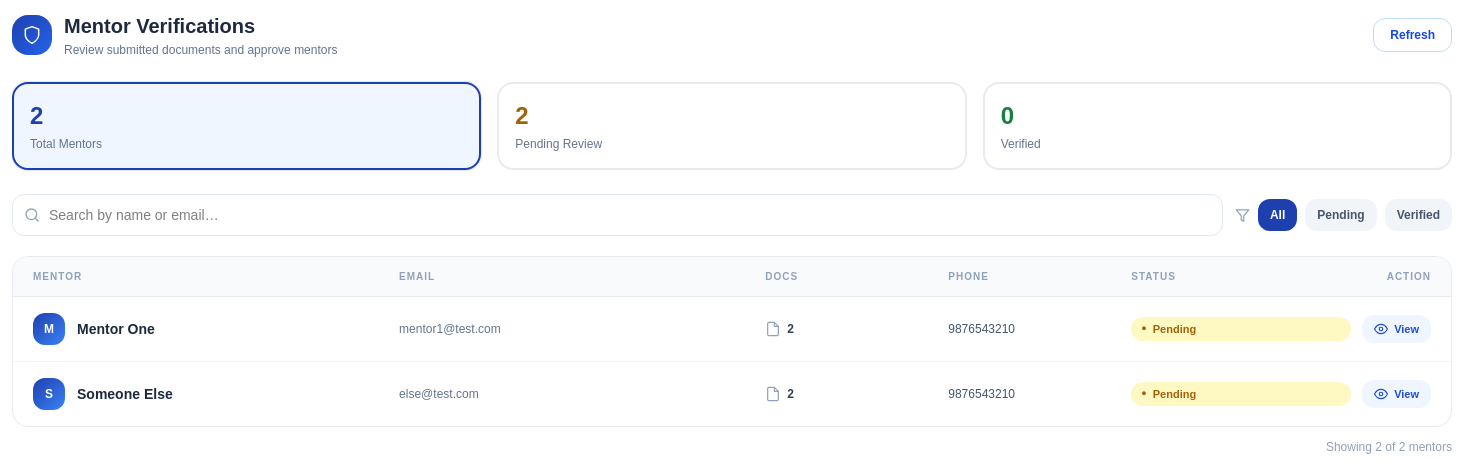
Scenario: AdminVerifications › filters the list via search (name or email)
This screenshot has width=1464, height=471.
Expected: the text "Mentor One" is shown, top-left (77, 319), bottom-right (155, 339)
Fully covers focus and blur styling states on the component input element
Focus the field with placeholder "Search by name or email…" at coordinates (618, 215), box top-left (12, 194), bottom-right (1223, 236)
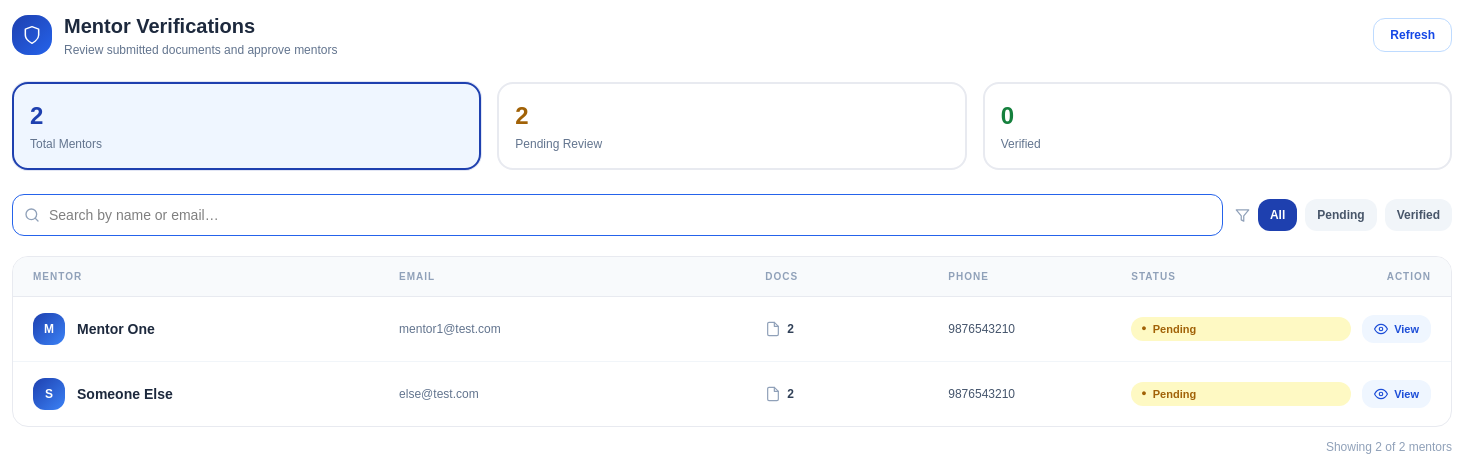
Leave the field with placeholder "Search by name or email…", box top-left (12, 194), bottom-right (1223, 236)
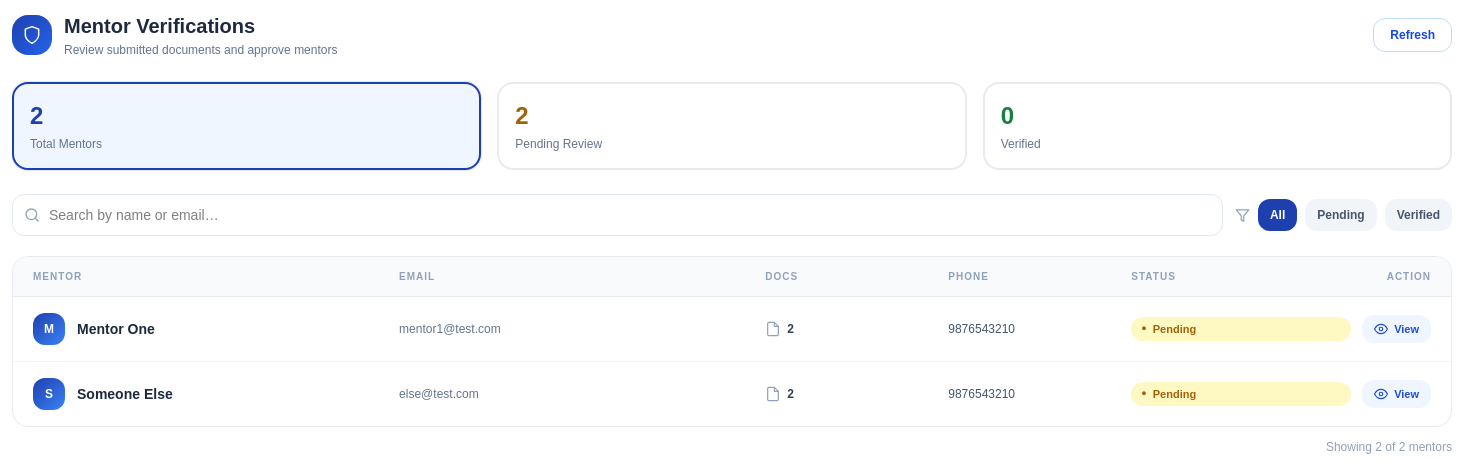
Type "mentor1@test.com" into the field with placeholder "Search by name or email…" at coordinates (618, 215), box top-left (12, 194), bottom-right (1223, 236)
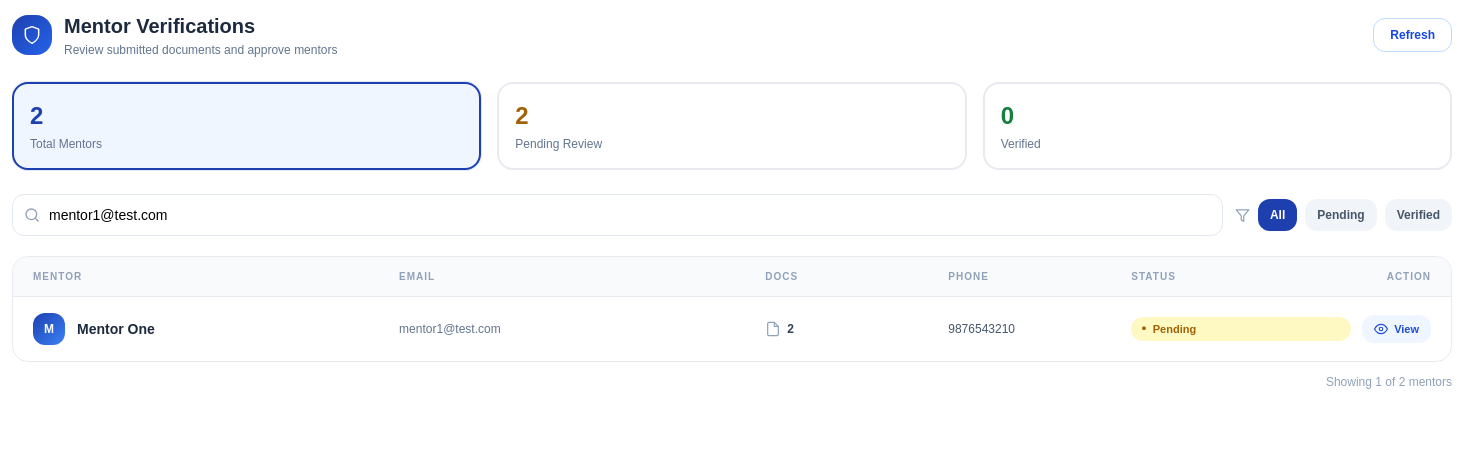
Expected: the text "Mentor One" is shown, top-left (77, 319), bottom-right (155, 339)
Now the button "Someone Else" is gone
